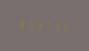eight: (17, 18, 25, 30), (36, 19, 44, 30)
seven: (45, 20, 53, 31)
three: (54, 20, 62, 31)
zero: (63, 20, 71, 32), (26, 19, 34, 30)
